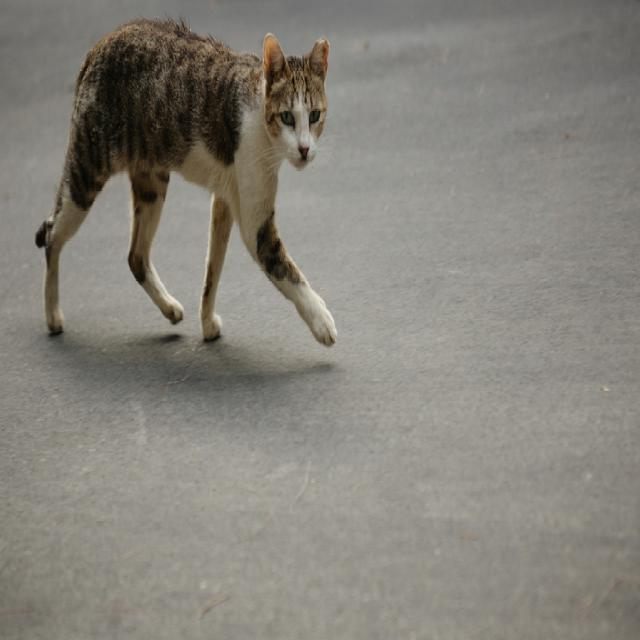Cat: (29, 16, 338, 341)
